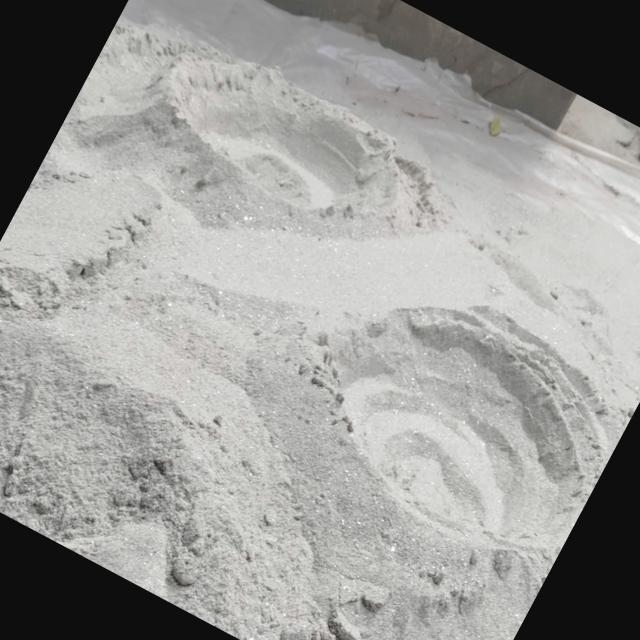C20: (326, 310, 603, 544), (172, 56, 392, 208)
